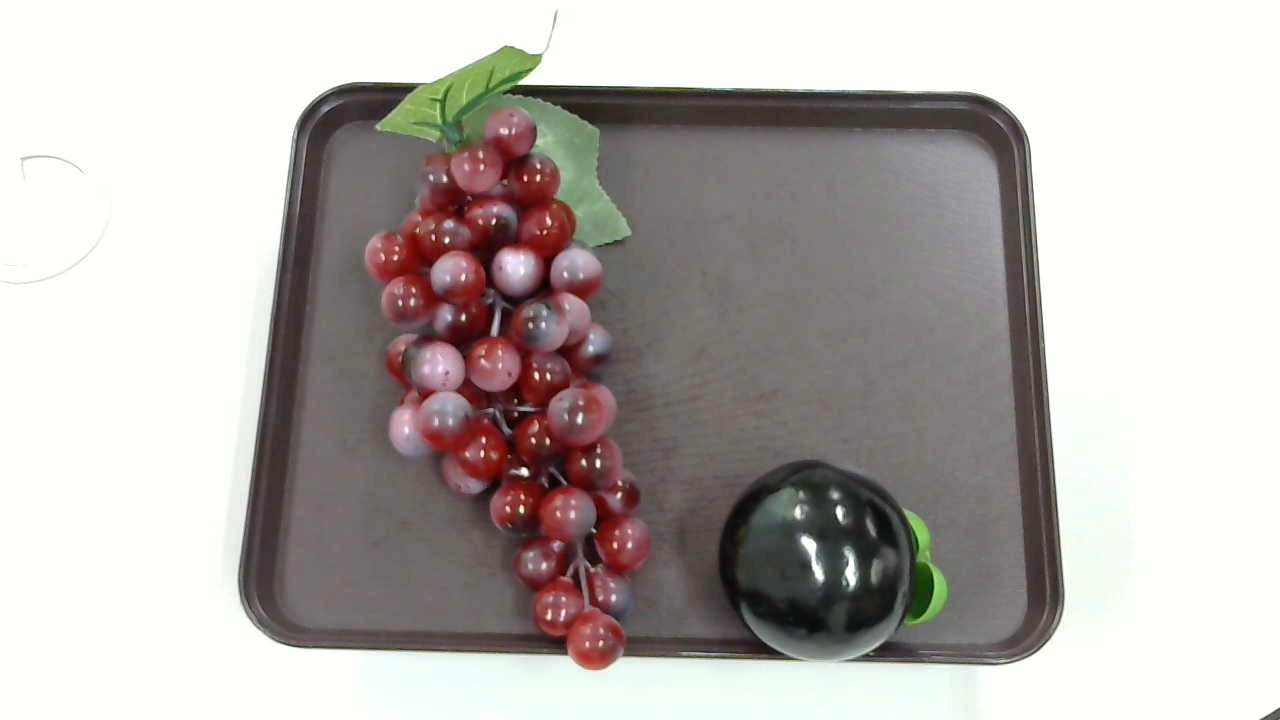grape: (364, 42, 666, 664)
mangosteen: (720, 456, 957, 669)
